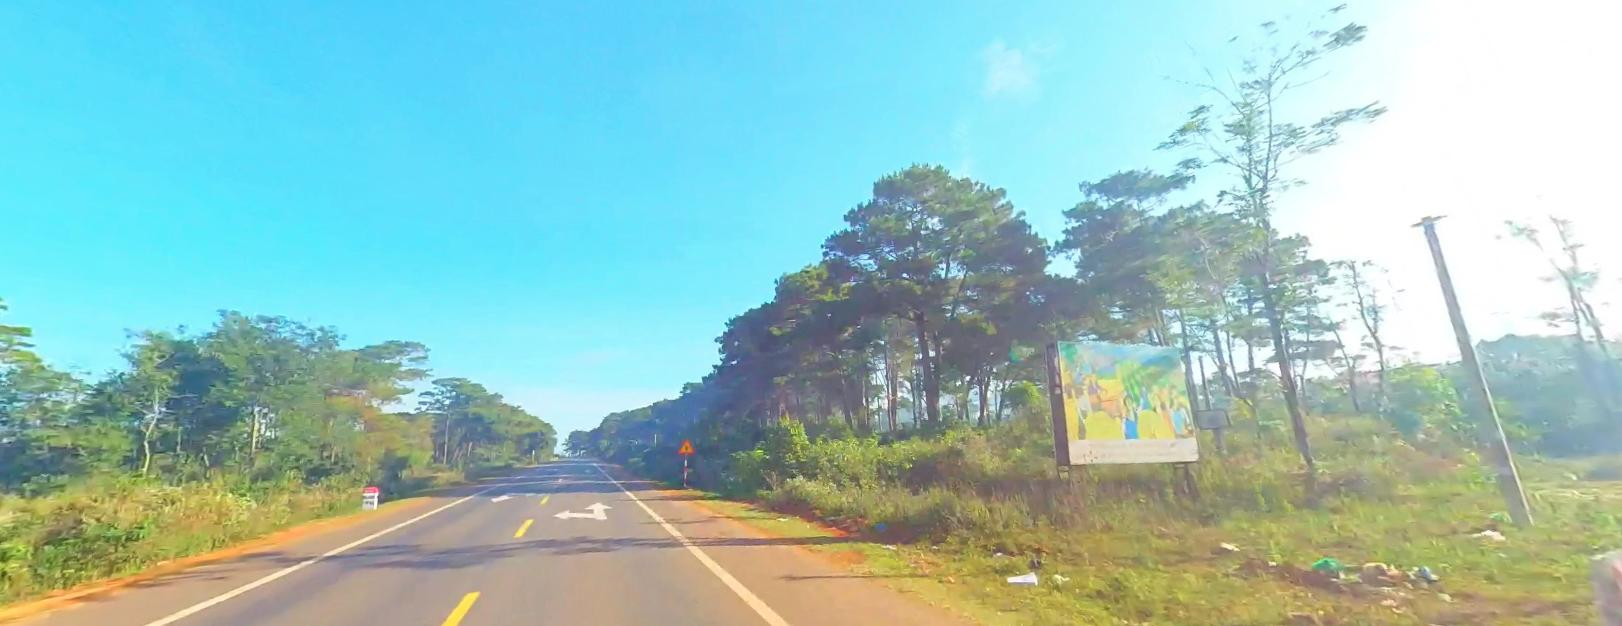Nguy hiem: (677, 438, 693, 452)
